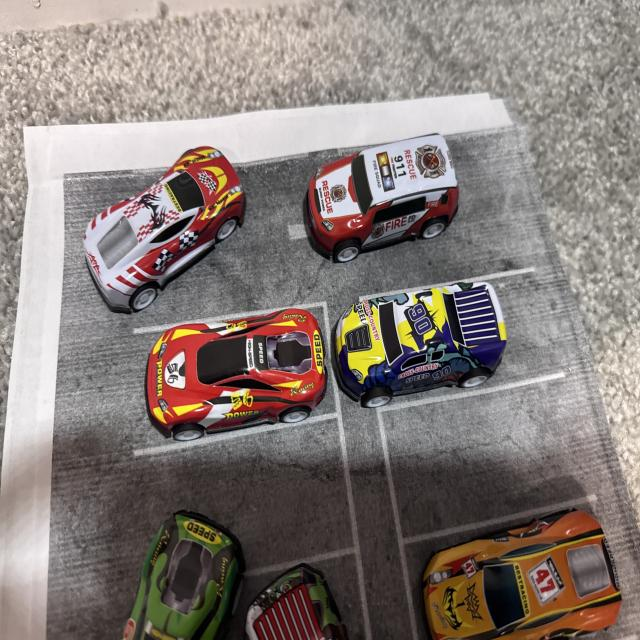Car: (137, 274, 363, 442), (382, 506, 632, 640), (340, 280, 555, 386), (62, 146, 212, 296), (290, 148, 460, 264), (128, 498, 242, 640), (250, 528, 375, 640)
